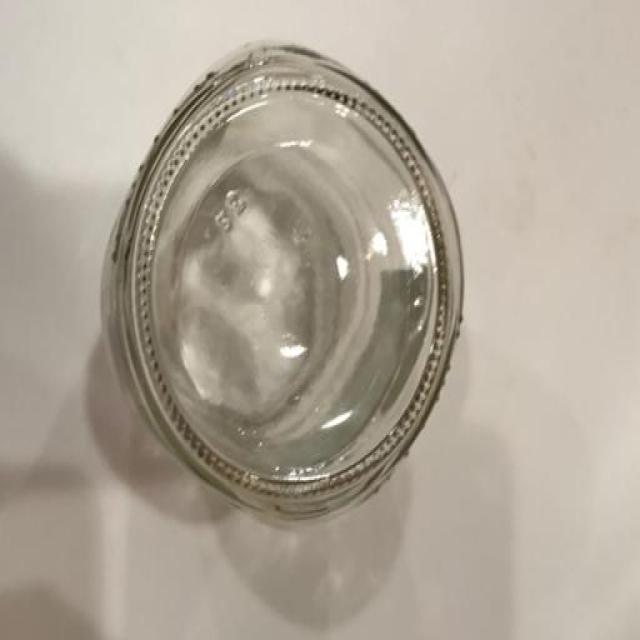glass: (88, 33, 474, 551)
